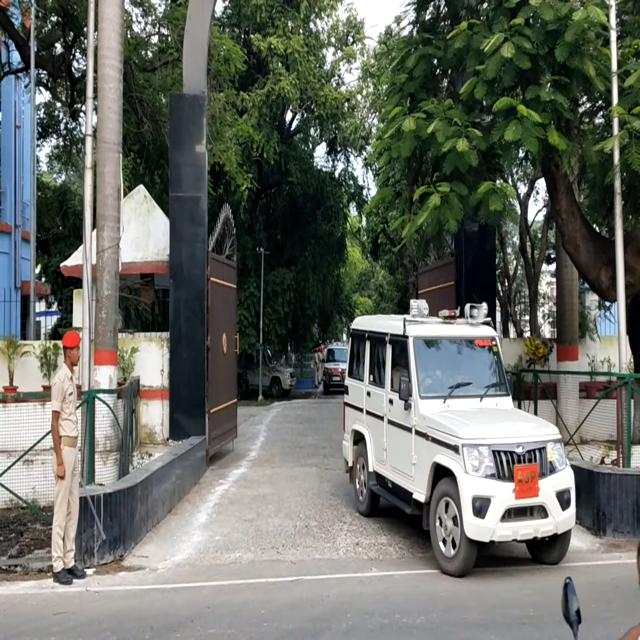emergency-vehicles: (324, 298, 584, 587)
